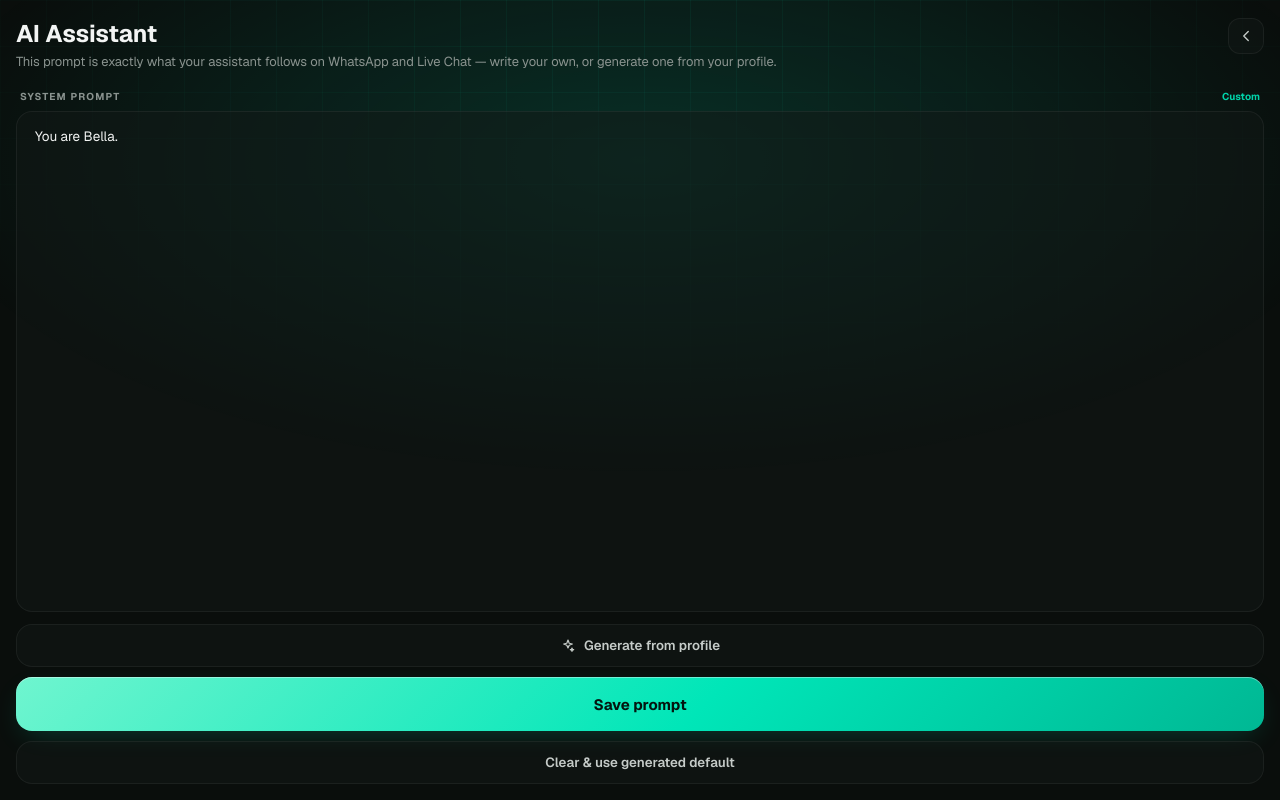
Assistant › clears back to the generated default
Click the button "Clear & use generated default": [640, 762] box [16, 741, 1264, 784]
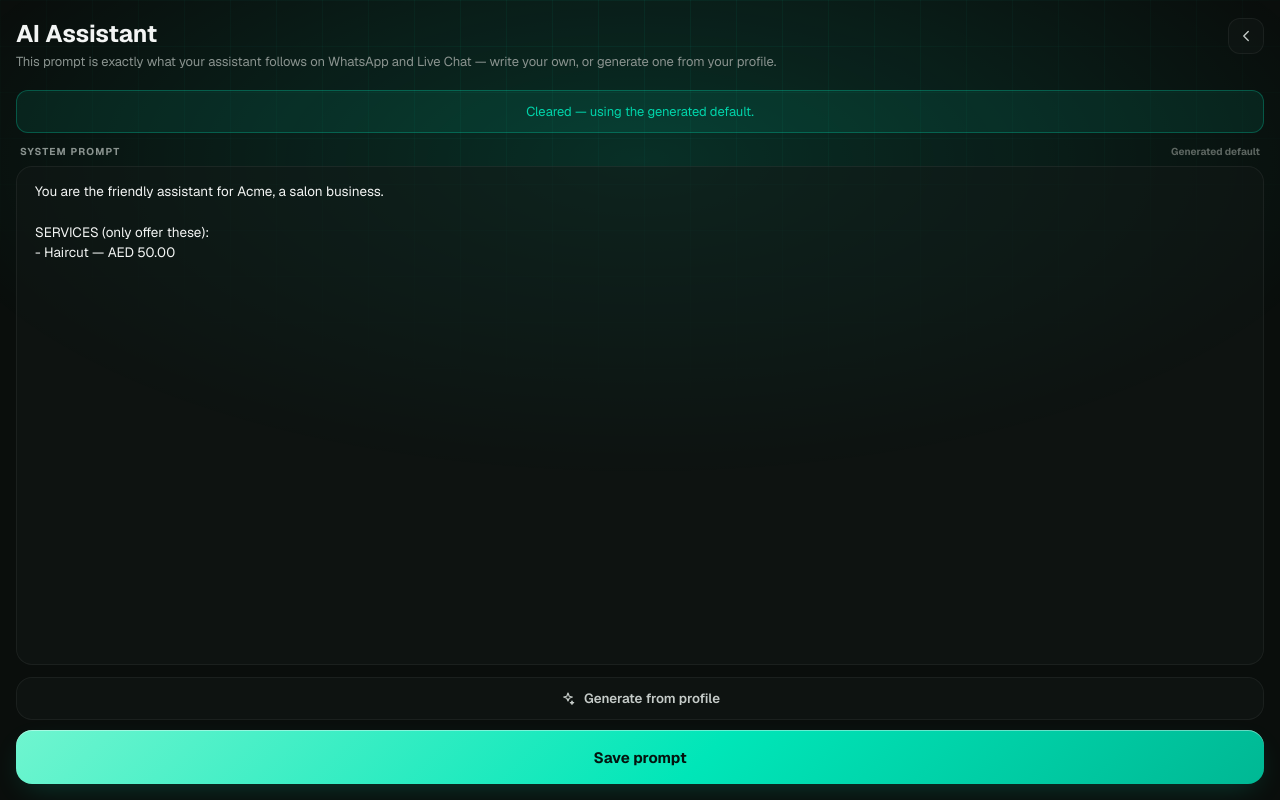
Result: the text "Cleared — using the generated default." is shown at [16, 90, 1264, 133]
